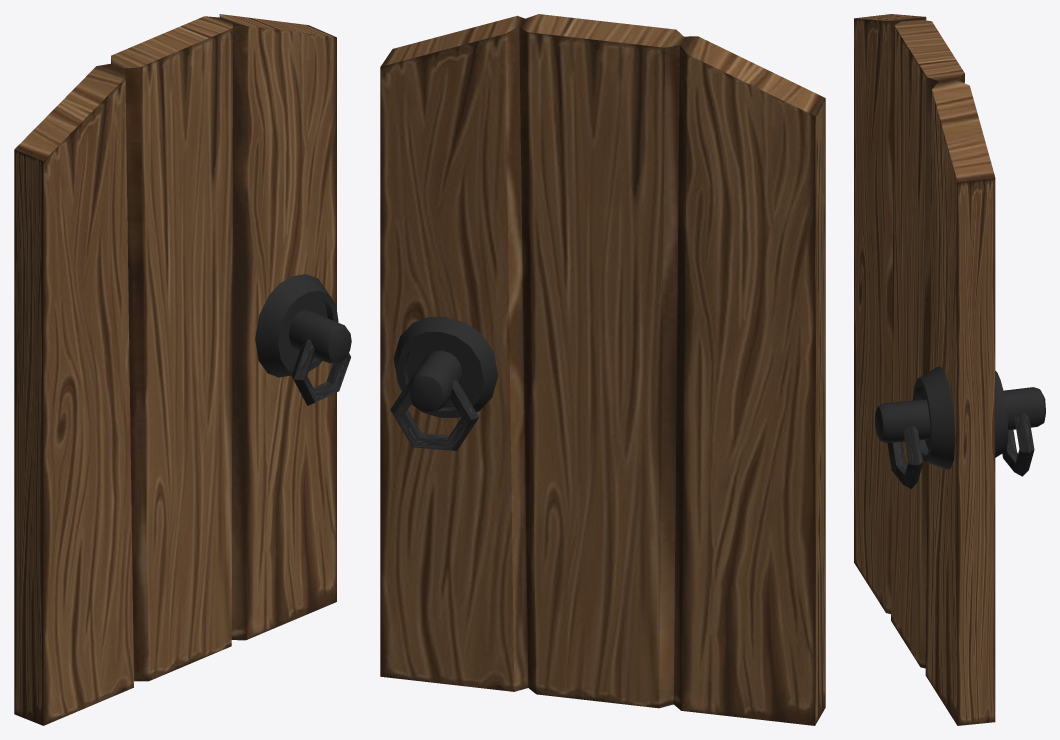
File: Door.fbx
3 renders of one model, left to right at view 1: azimuth 30°, elevation 25°; view 2: azimuth 150°, elevation 25°; view 3: azimuth 270°, elevation 25°, orthographic. The views are drawn at different scales.
Parts seen in each view (by area): view 1: Door; view 2: Door; view 3: Door.
Part boxes in pixels (x1,y1,x2,y2): Door: [14, 14, 351, 725]; Door: [380, 14, 825, 725]; Door: [854, 14, 1045, 725].
Bounding box in the file's own units: 305 × 502 × 147.
